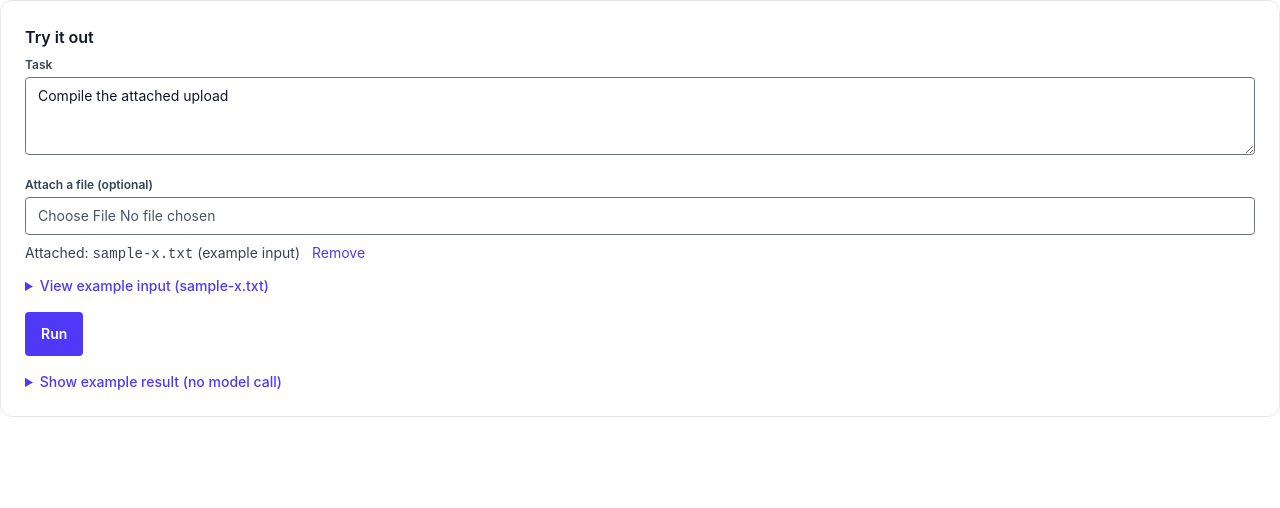
it: TryItOutPanel example › Remove detaches the example file; Use example file attaches it again
The image size is (1280, 508).
Click the button "Remove". click: (339, 253)
box: x1=312 y1=243 x2=365 y2=263
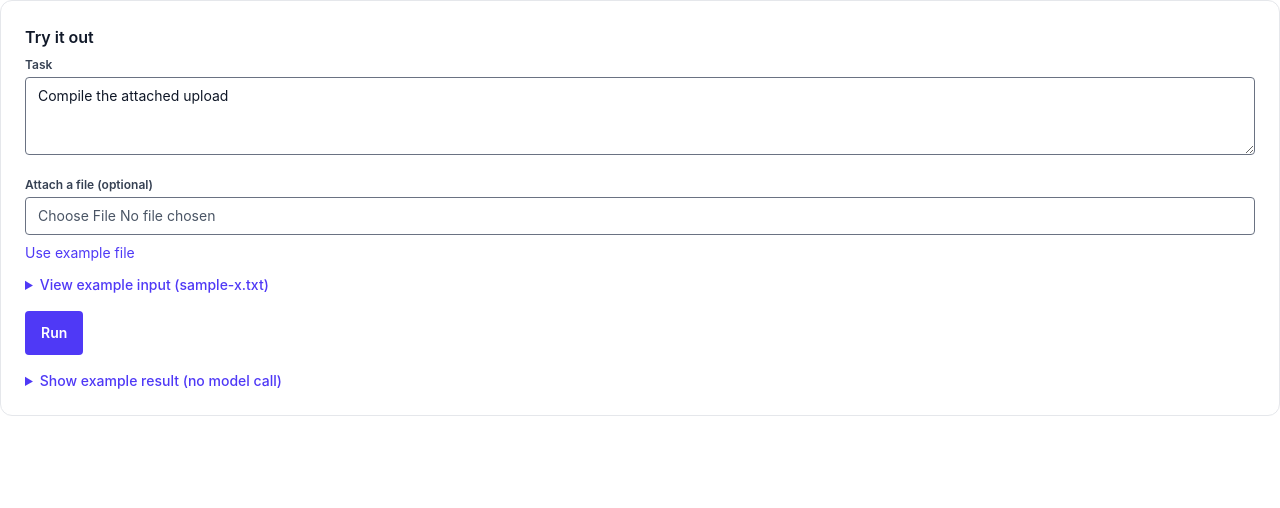
Expected: the text "Attached: sample-x.txt" is gone
Click the button "Run". click: (54, 333)
box: x1=25 y1=311 x2=83 y2=355
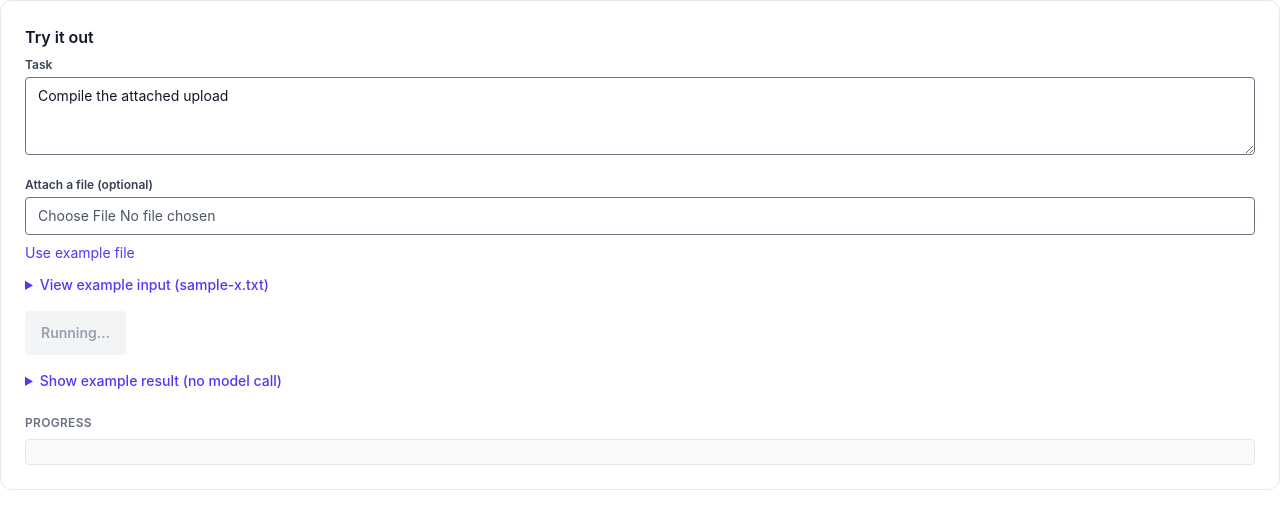
Click the button "Use example file". click: (80, 253)
box: x1=25 y1=243 x2=135 y2=263
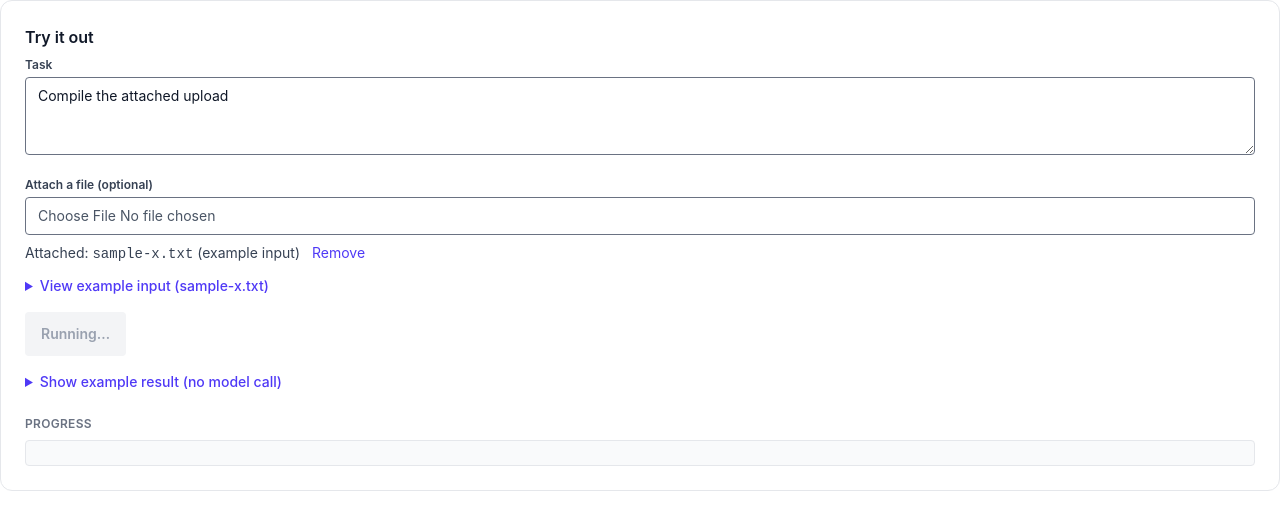
Expected: the text "Attached: sample-x.txt (example input)" is shown, x1=25 y1=243 x2=365 y2=263
